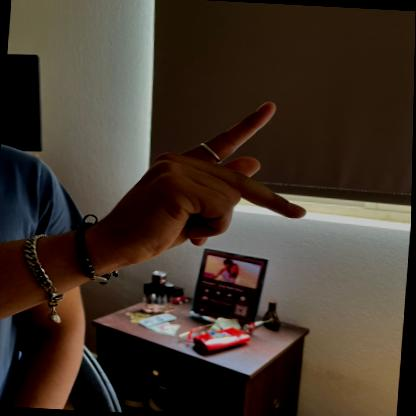K: (110, 85, 319, 285)
